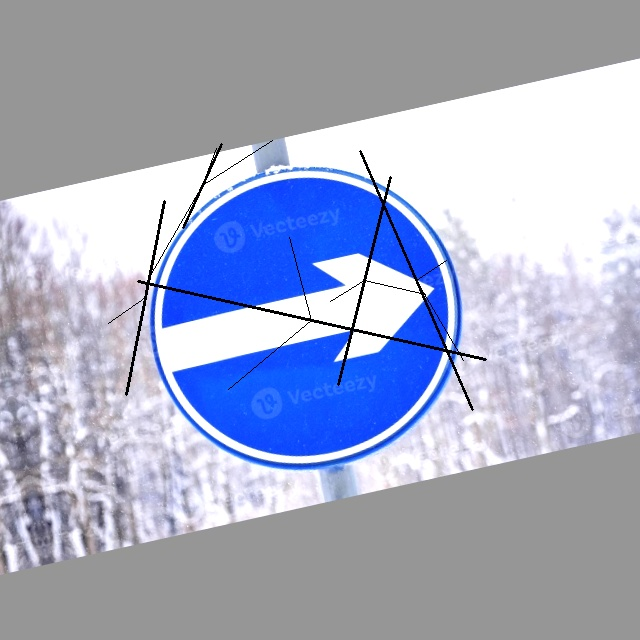Compulsory_Turn_Right: (121, 134, 491, 495)
